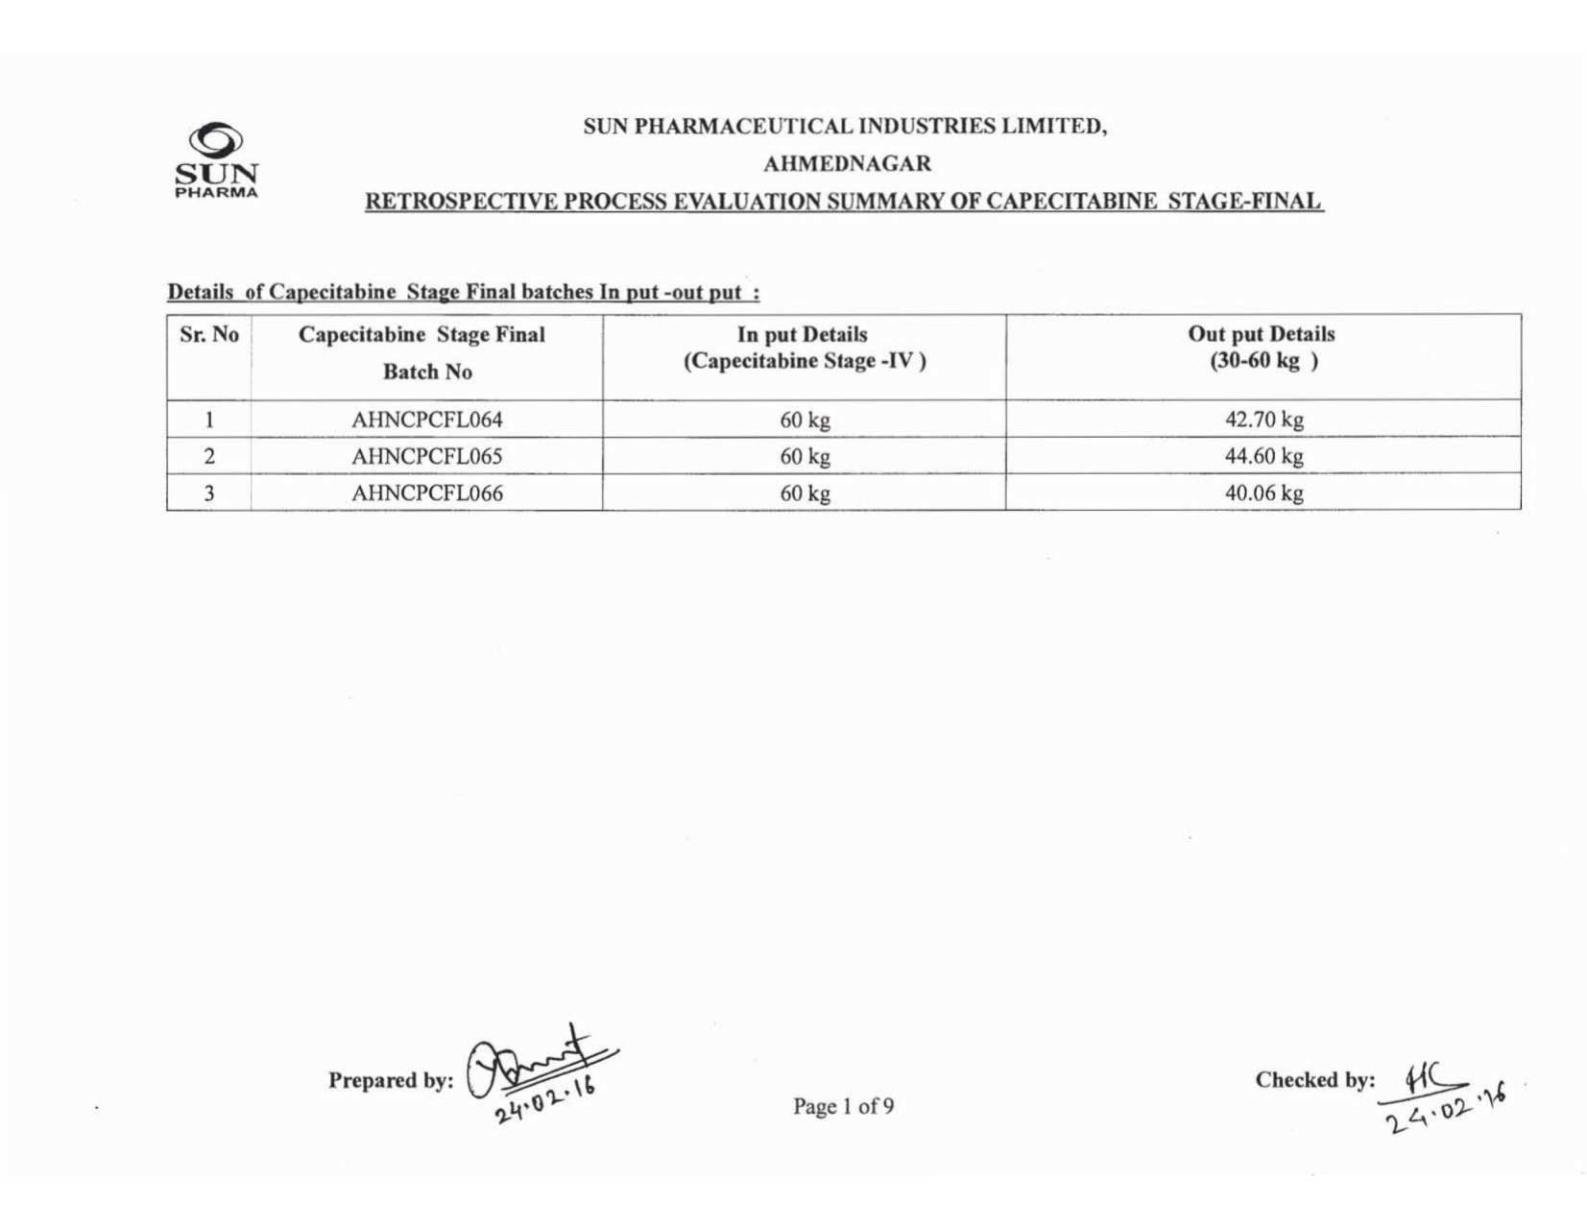full_lined: (158, 306, 1550, 523)
